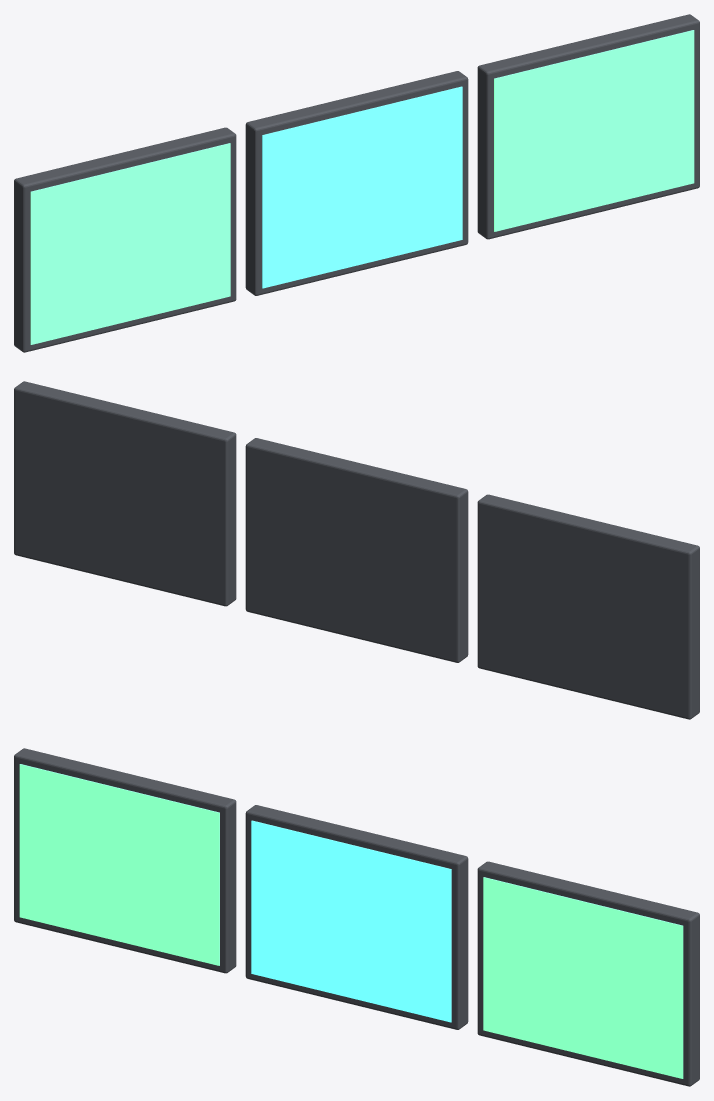
The model's file is wall_screen_triple.glb.
3 views of the same model, one above another, from view 1: azimuth 30°, elevation 25°; view 2: azimuth 150°, elevation 25°; view 3: azimuth 330°, elevation 25° (orthographic).
Parts seen in each view (by area): view 1: GD_wall_screen_triple__m1, GD_wall_screen_triple__m2, GD_wall_screen_triple__m0; view 2: GD_wall_screen_triple__m0; view 3: GD_wall_screen_triple__m1, GD_wall_screen_triple__m2, GD_wall_screen_triple__m0.
Part boxes in pixels (x1,y1,x2,y2): GD_wall_screen_triple__m1: (30,30,694,344); GD_wall_screen_triple__m2: (262,86,462,288); GD_wall_screen_triple__m0: (14,14,699,352); GD_wall_screen_triple__m0: (14,381,699,719); GD_wall_screen_triple__m1: (19,764,683,1078); GD_wall_screen_triple__m2: (251,820,451,1022); GD_wall_screen_triple__m0: (14,748,699,1086).
Bounding box in the file's own units: 1.9 × 0.45 × 0.053.
